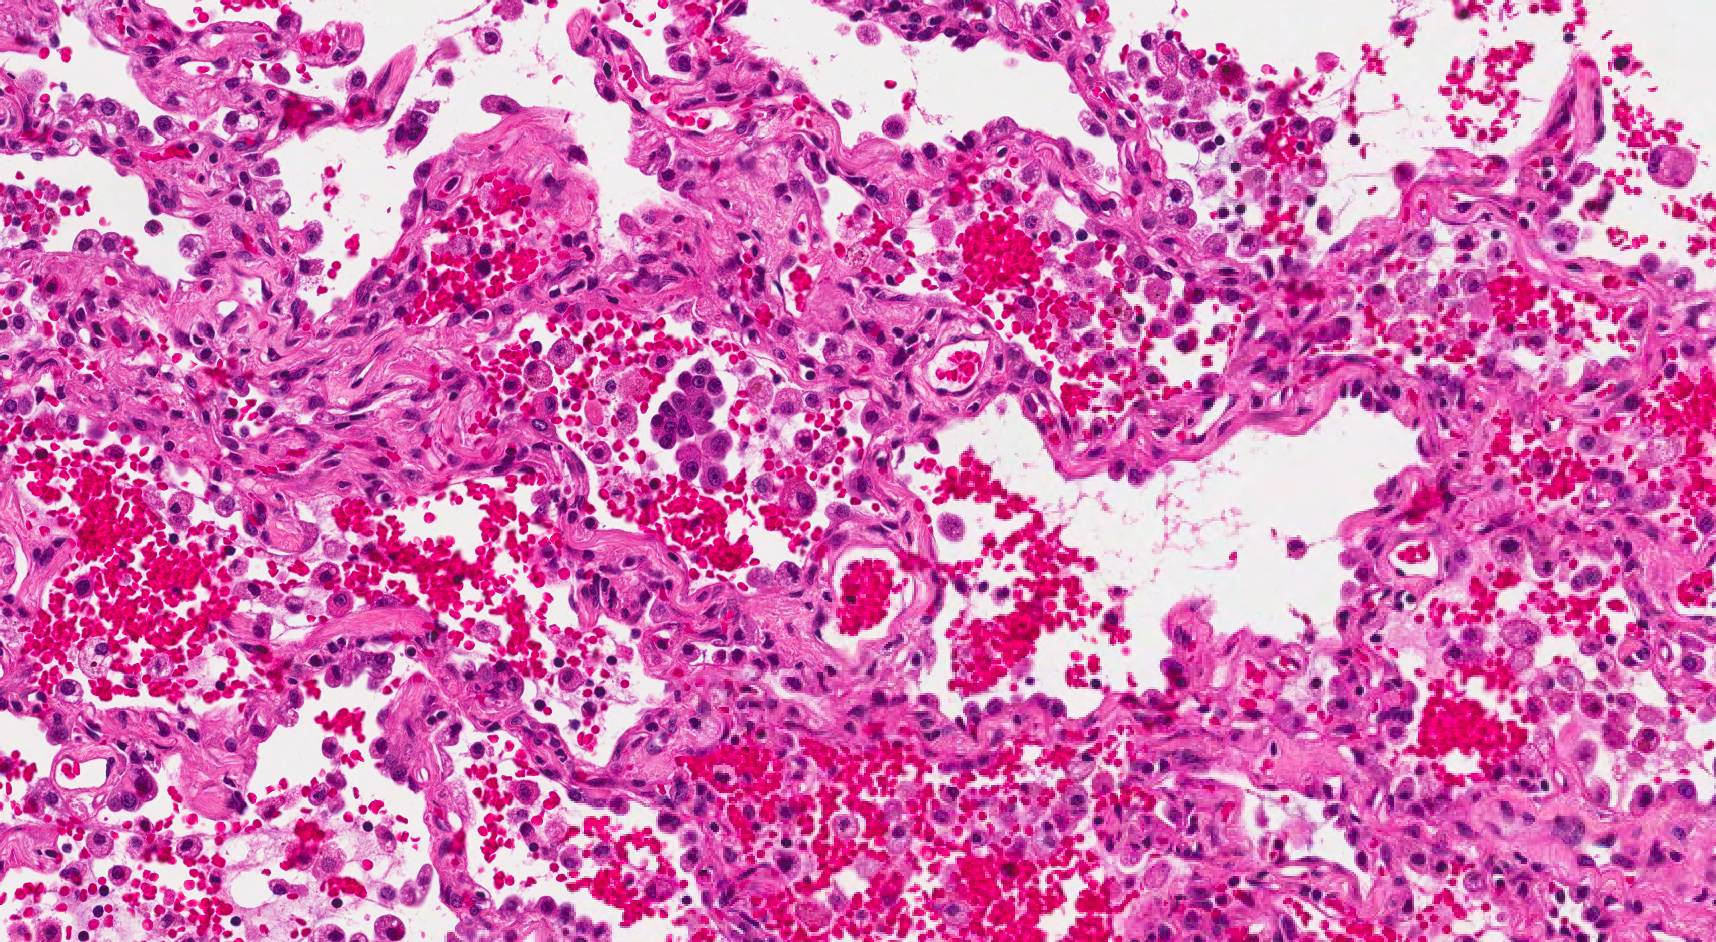stas: (643, 354, 746, 500), (382, 103, 438, 161)
